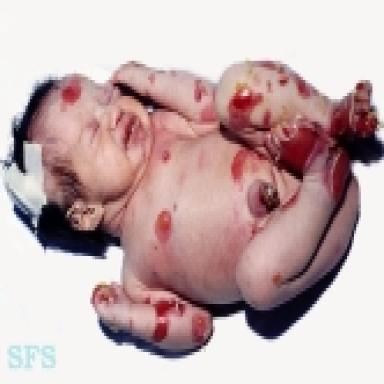Epidermolysis-Bullosa-Pruriginosa: (281, 121, 351, 203), (331, 80, 378, 139), (229, 87, 263, 130), (152, 299, 185, 342), (231, 147, 270, 182), (253, 60, 288, 86), (192, 314, 210, 343), (155, 211, 172, 241), (61, 78, 81, 103), (280, 190, 299, 212), (295, 75, 311, 99), (194, 79, 206, 102), (263, 110, 271, 128), (272, 272, 282, 285), (252, 225, 263, 236), (162, 149, 171, 162), (266, 80, 271, 92), (143, 297, 150, 303)
